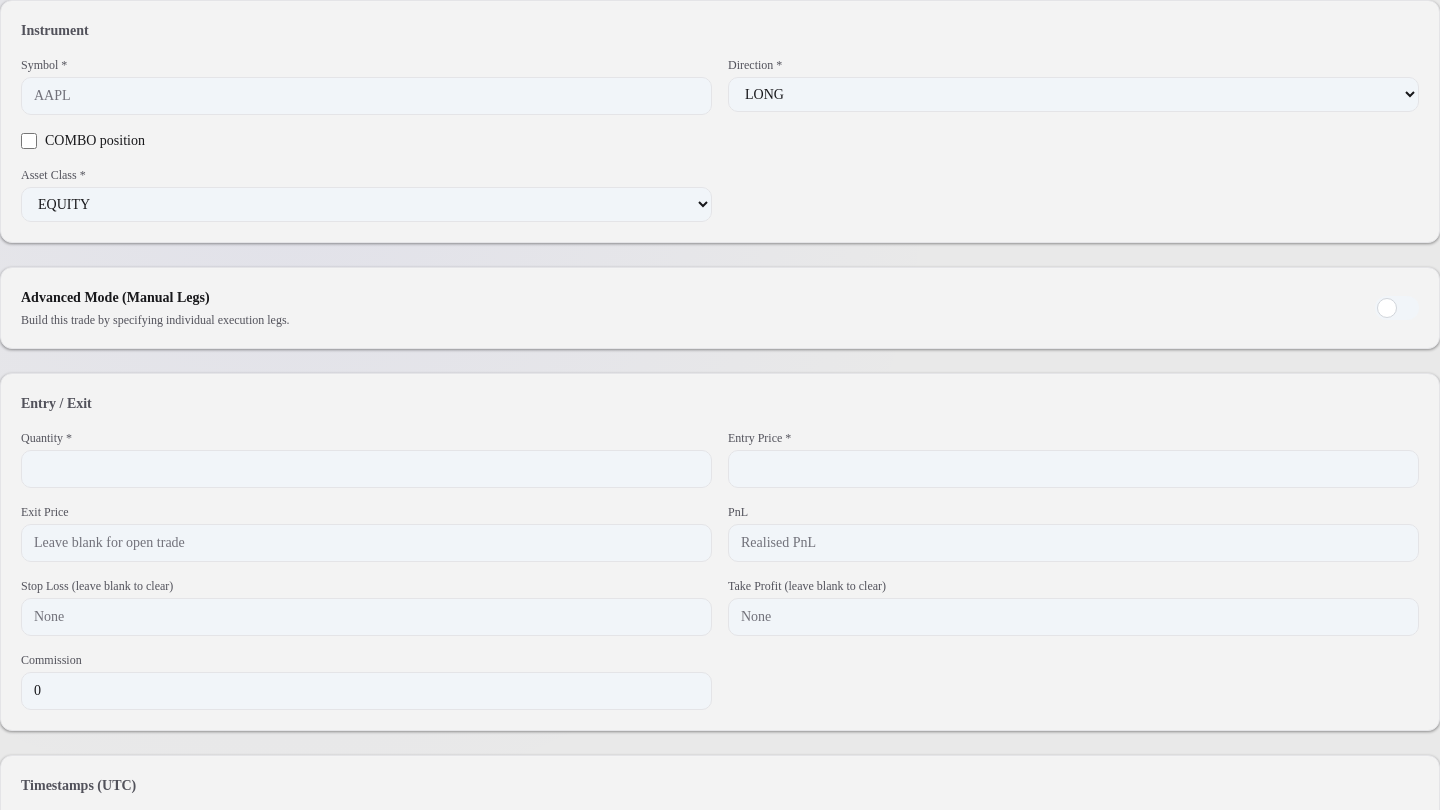
Test case: TradeForm › COMBO checkbox disables Advanced Mode toggle and sets isAdvancedMode to true
Expected: the checkbox named "isAdvancedMode" is not checked, [1375,296,1419,320]
// Check COMBO
Click the checkbox labelled "COMBO position": [29, 141] box [21,133,37,149]
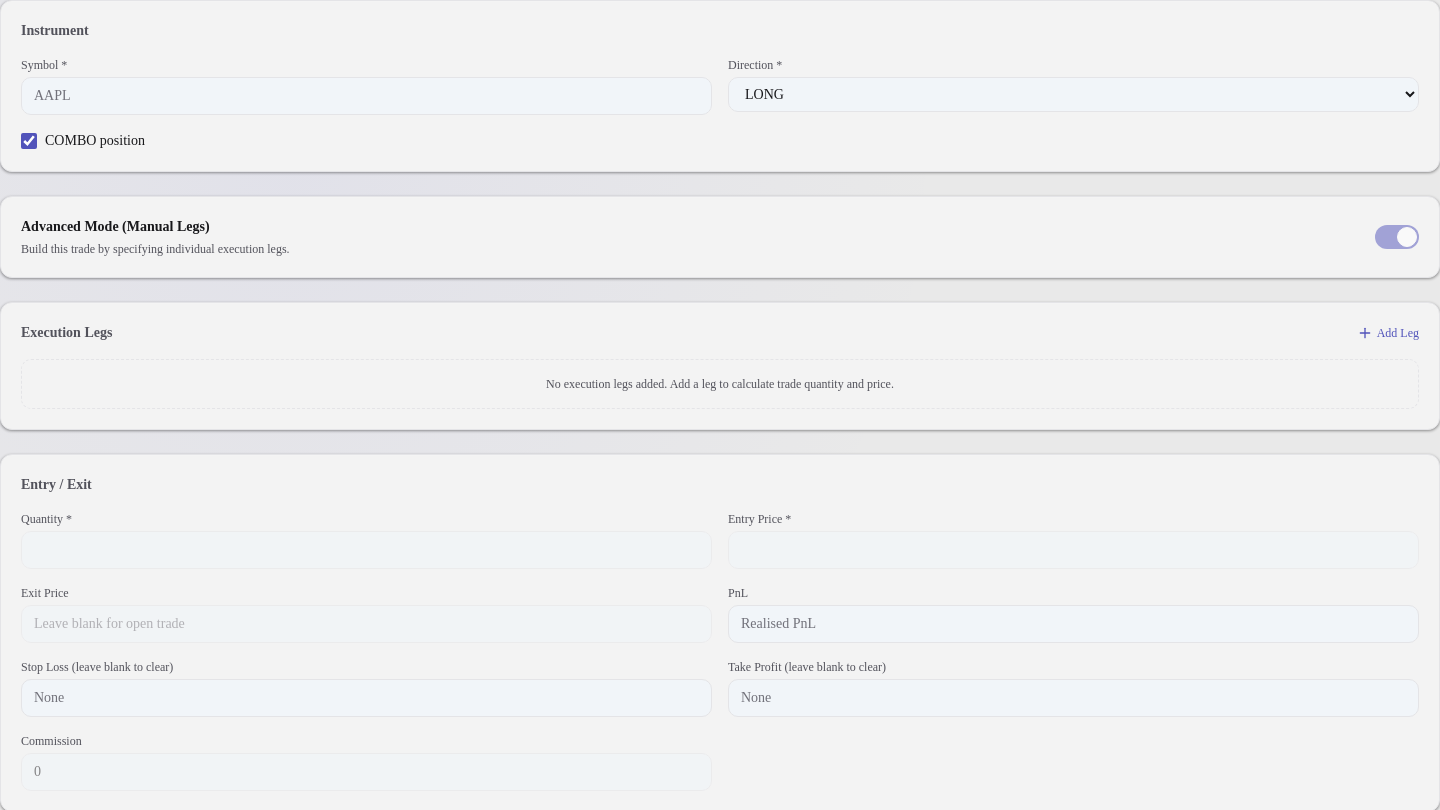
Expected: the checkbox named "isAdvancedMode" is checked, [1375,225,1419,249]
